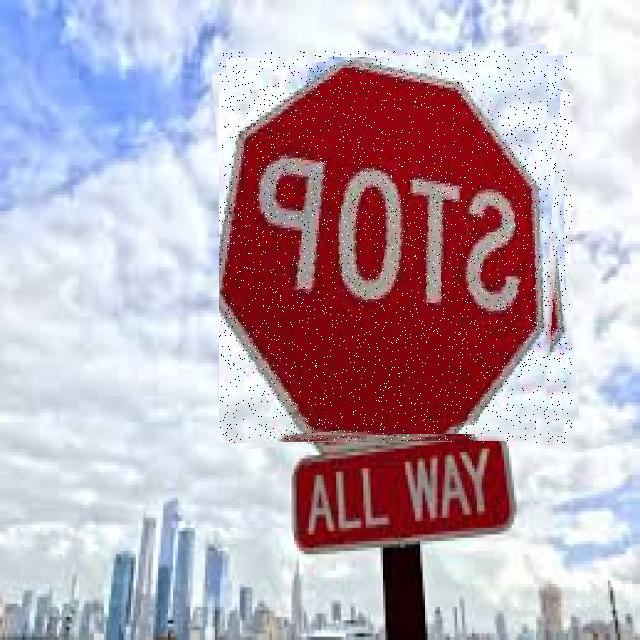stop: (219, 51, 572, 443)
